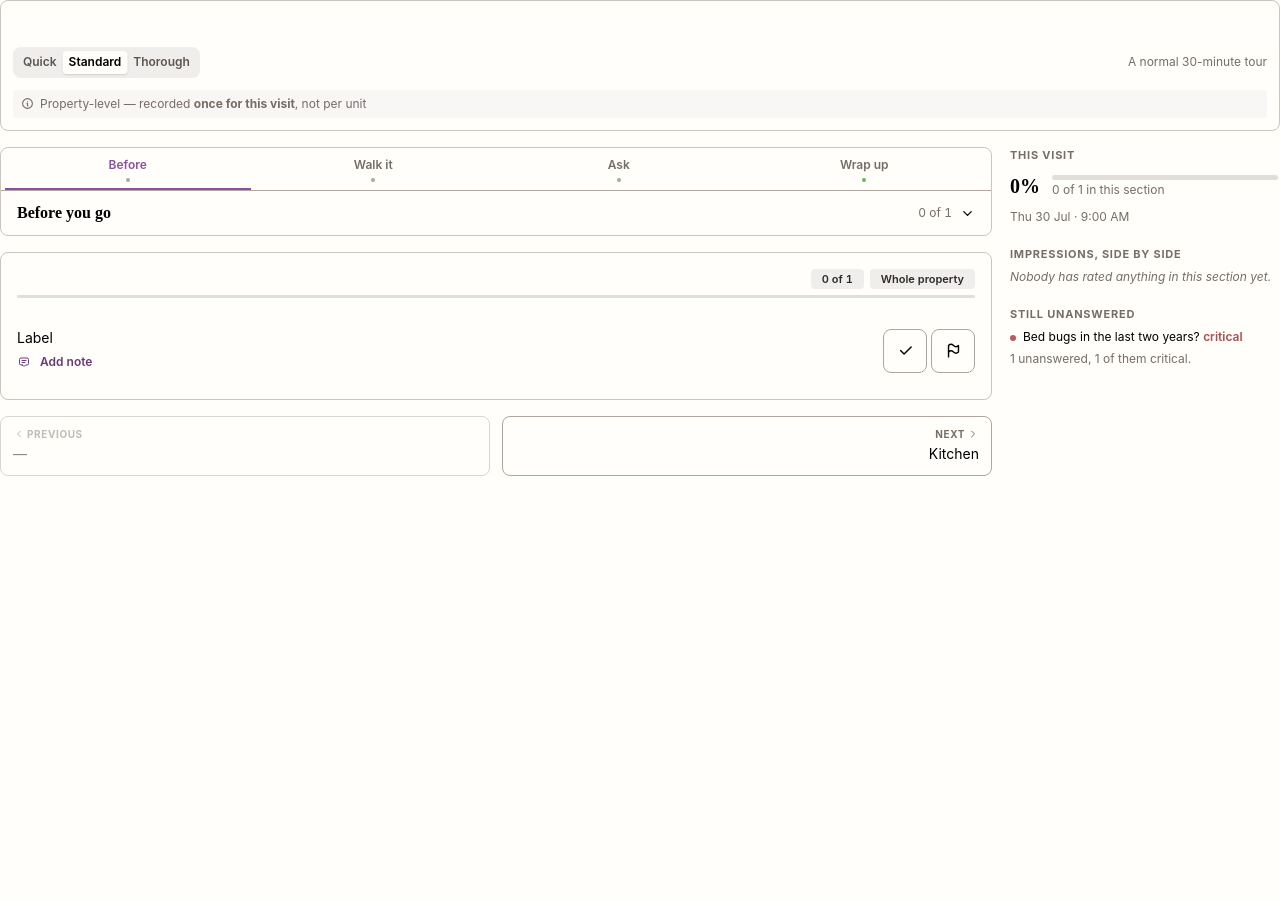
Test: impressions › shows the team average once more than one member has rated
Click the button "Before you go 0 of 1": [64, 212] box [13,191,979,235]
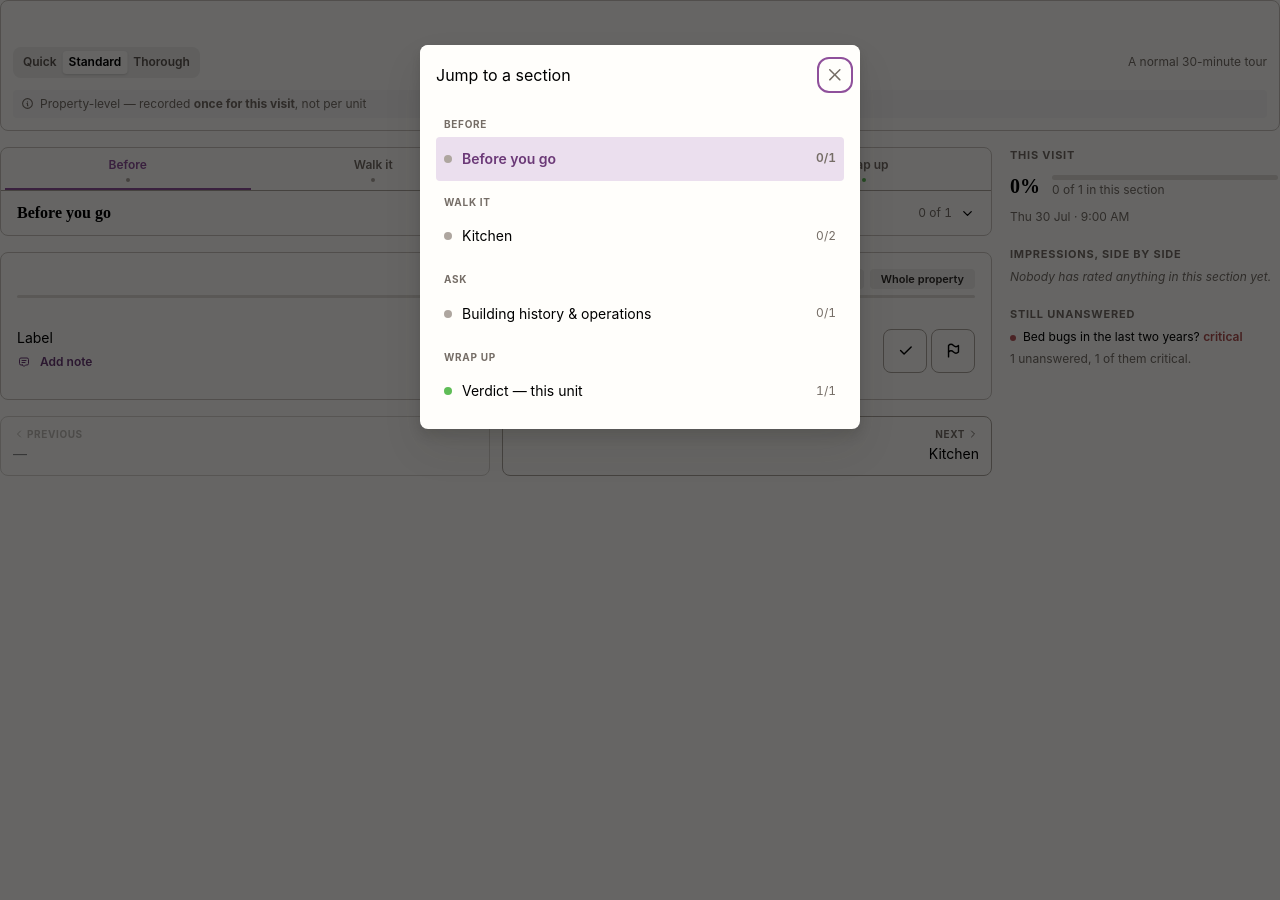
Click the button "Verdict — this unit 1/1": [522, 391] box [436,369,844,413]
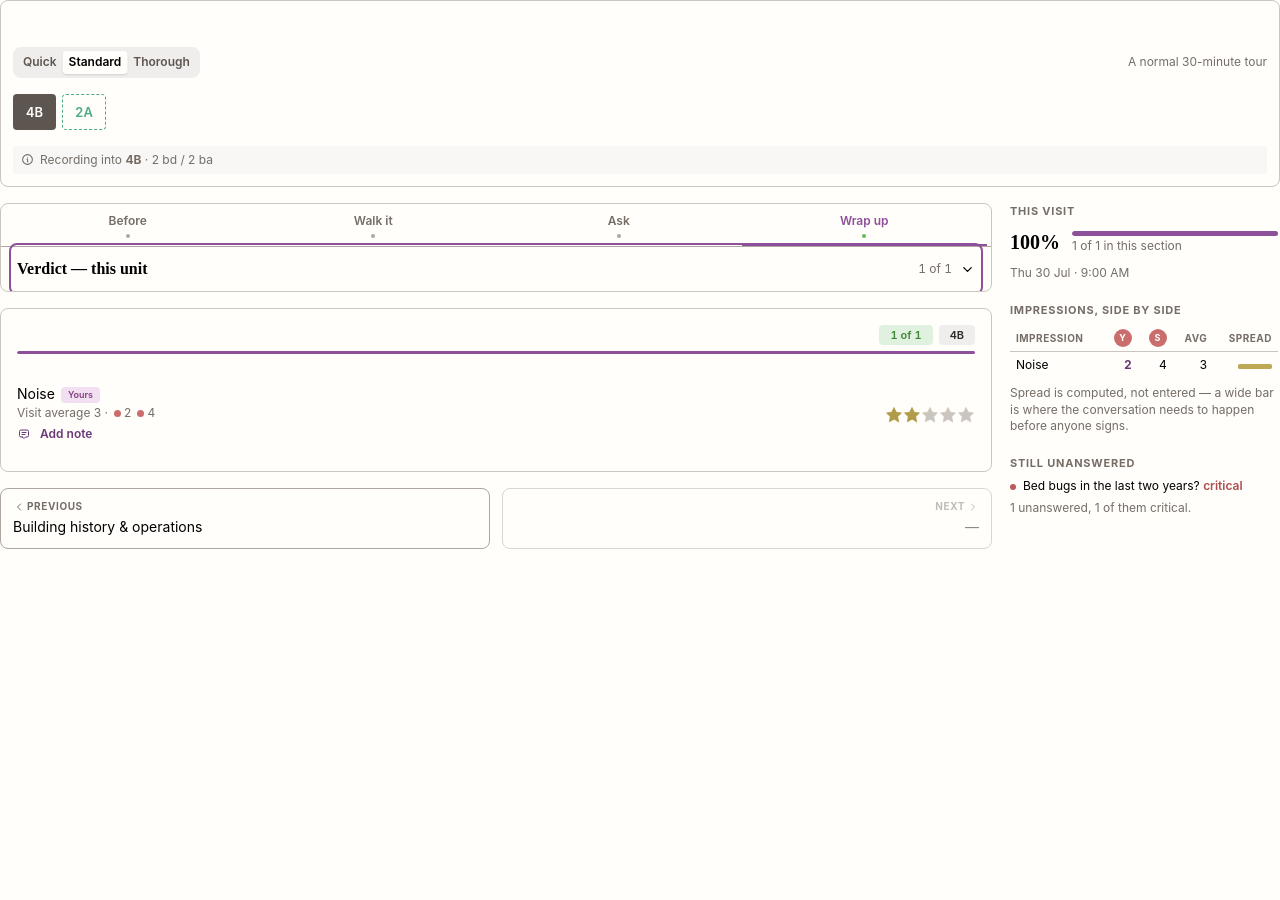
Now the text "Visit average 3 ·" is shown, box [17,405,108,422]
